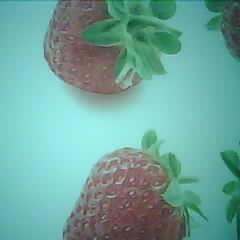straw-ripe: (63, 149, 182, 240), (44, 0, 148, 92)
